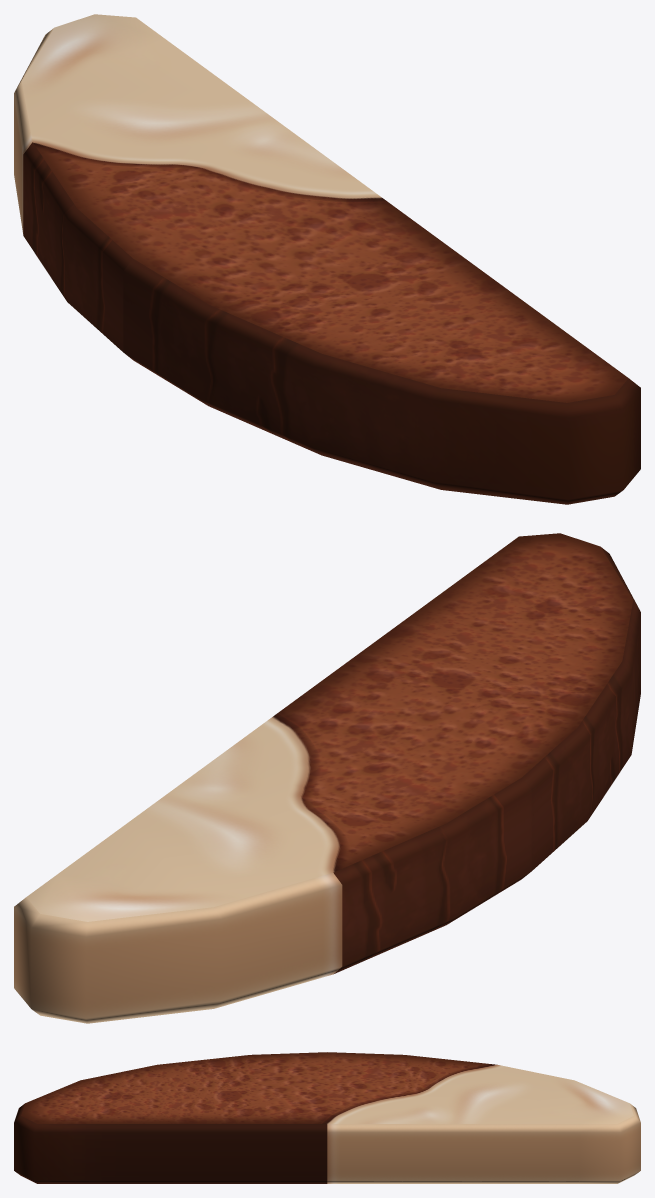
File: Biscotti_04.fbx
3 renders of one model, top to bottom at view 1: azimuth 30°, elevation 25°; view 2: azimuth 150°, elevation 25°; view 3: azimuth 270°, elevation 25°, orthographic. The views are drawn at different scales.
Parts seen in each view (by area): view 1: Biscotti_04; view 2: Biscotti_04; view 3: Biscotti_04.
Boxes of the visible parts, left/top/right/bottom form: Biscotti_04: left=14, top=14, right=640, bottom=504; Biscotti_04: left=14, top=533, right=640, bottom=1023; Biscotti_04: left=14, top=1052, right=640, bottom=1183.
Size of the model in its own units: 17.96 by 6.5 by 61.57.
